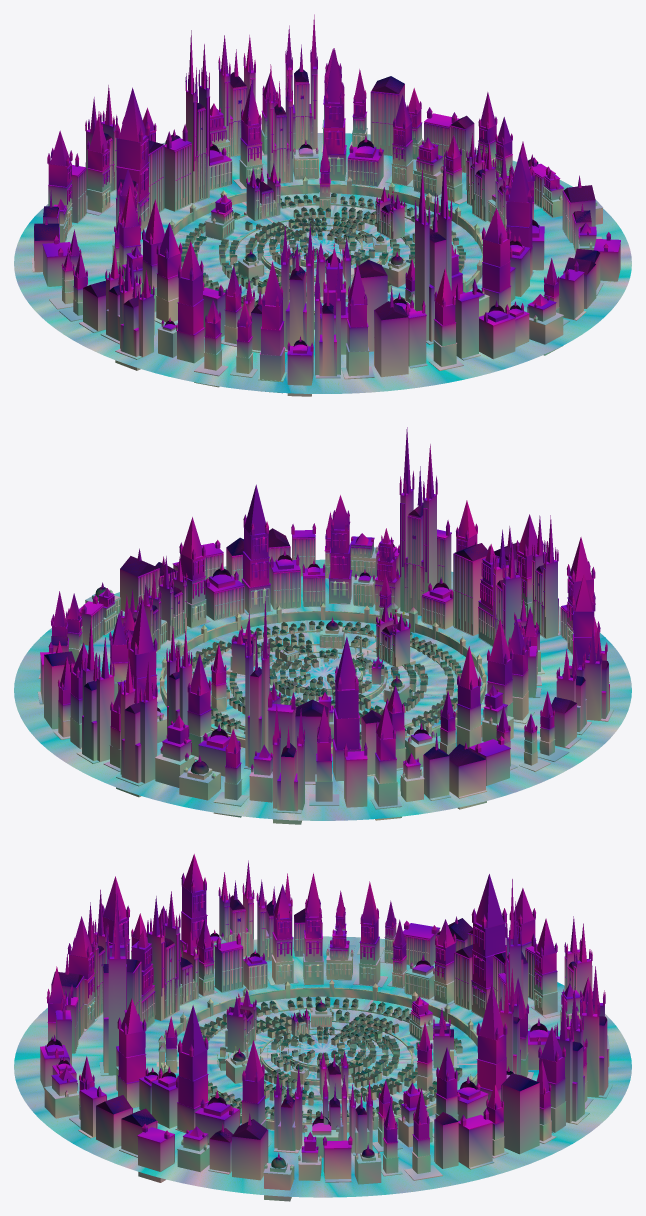
File: city_panorama.glb
The picture shows the model from 3 angles, top to bottom: view 1: azimuth 30°, elevation 25°; view 2: azimuth 150°, elevation 25°; view 3: azimuth 270°, elevation 25°; orthographic projection.
Parts seen in each view (by area): view 1: city_panorama, city_terrain, city_roofs, city_openings, city_paving; view 2: city_panorama, city_terrain, city_roofs, city_openings, city_paving; view 3: city_panorama, city_terrain, city_roofs, city_openings, city_paving.
Boxes of the visible parts, x1,y1,x2,y2 form: city_panorama: (32, 14, 620, 396); city_terrain: (14, 133, 631, 393); city_roofs: (34, 68, 599, 346); city_openings: (67, 75, 551, 285); city_paving: (172, 184, 482, 320); city_panorama: (37, 427, 613, 824); city_terrain: (14, 559, 631, 820); city_roofs: (44, 503, 608, 778); city_openings: (79, 504, 573, 728); city_paving: (162, 611, 484, 748); city_panorama: (40, 854, 612, 1201); city_terrain: (14, 936, 631, 1197); city_roofs: (46, 895, 607, 1172); city_openings: (66, 894, 580, 1114); city_paving: (156, 987, 477, 1130).
Bounding box in the file's own units: 490 × 172 × 490.
